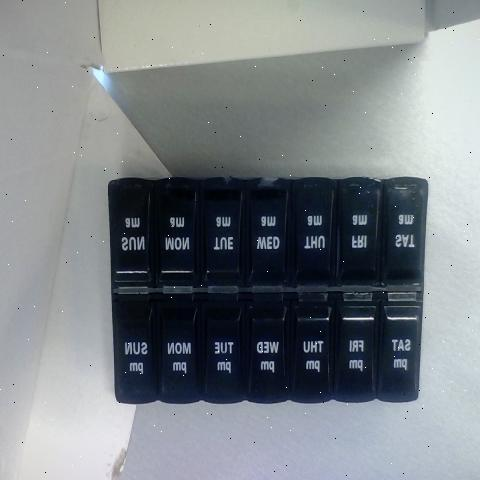FRI-am: (343, 179, 379, 274)
FRI-pm: (156, 174, 194, 282)
MON-am: (336, 298, 379, 401)
MON-pm: (160, 298, 198, 402)
SAT-am: (383, 181, 422, 278)
SAT-pm: (383, 294, 419, 398)
SUN-am: (114, 177, 148, 274)
SUN-pm: (116, 302, 154, 394)
THU-am: (297, 180, 338, 274)
THU-pm: (291, 295, 331, 403)
TUE-am: (197, 177, 237, 280)
TUE-pm: (201, 290, 244, 401)
WED-am: (247, 176, 288, 280)
WED-pm: (247, 292, 288, 398)
